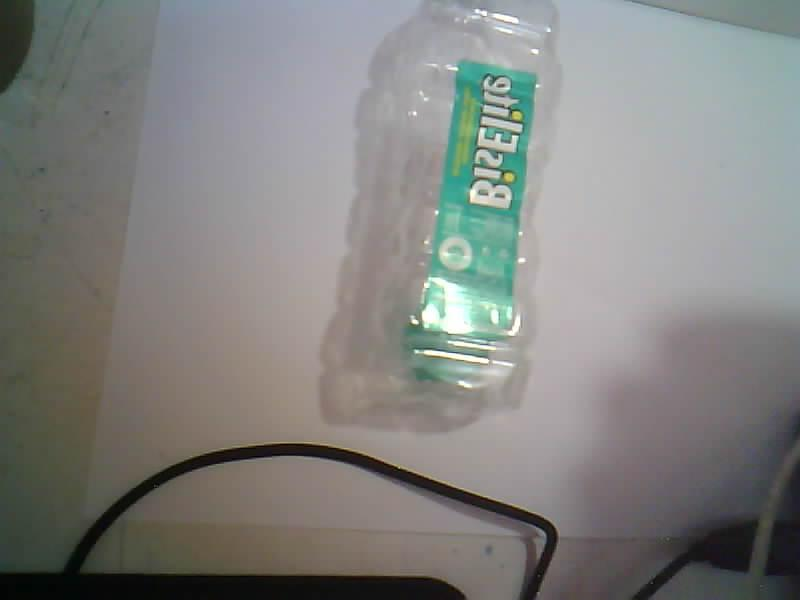non-biodegradable: (321, 0, 559, 429)
